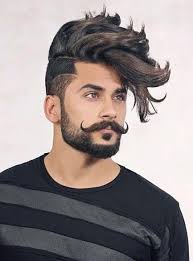b.y: (70, 118, 129, 162)
